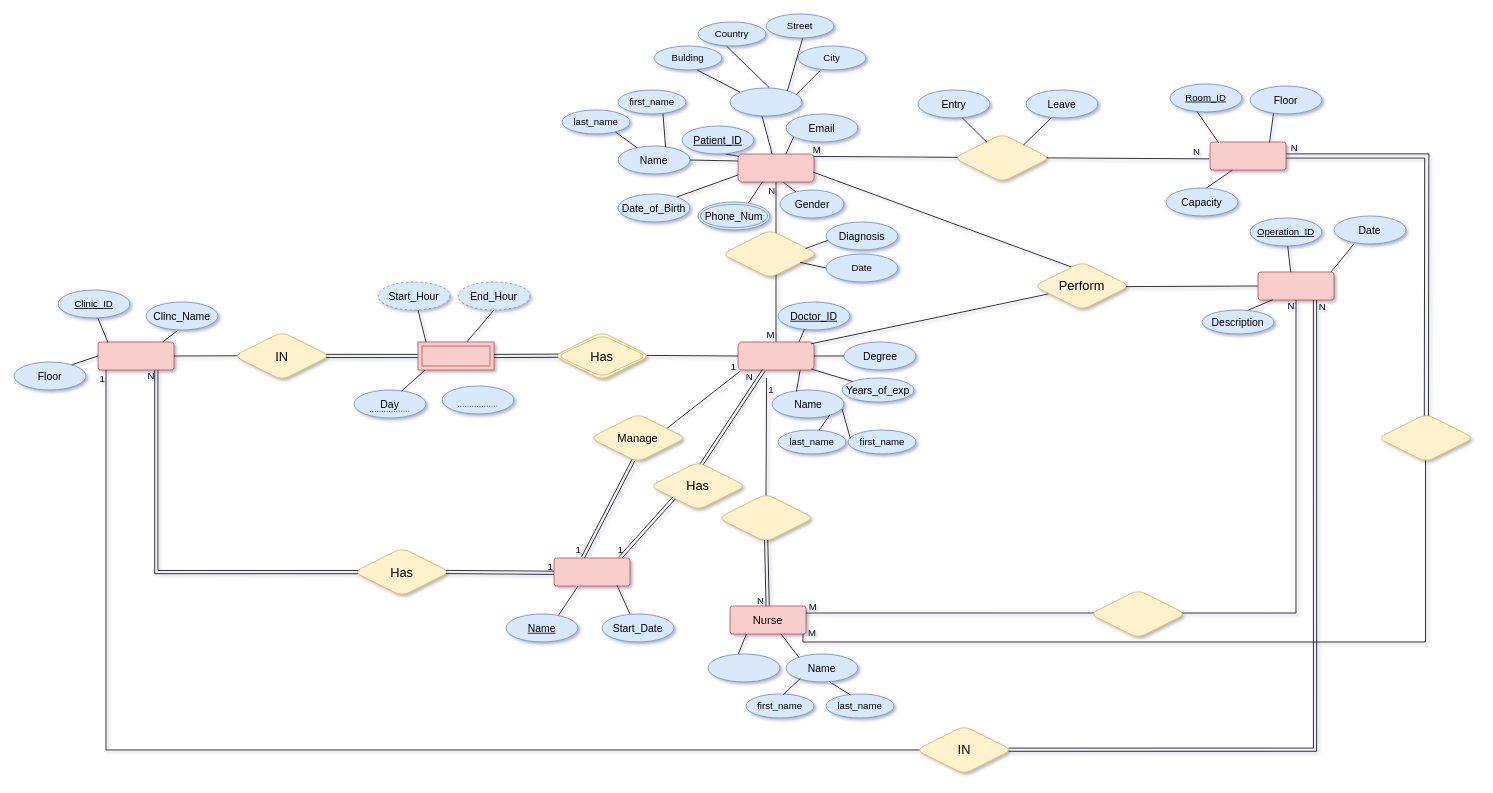
This 1493x793 diagram has some shape labels left out. The centre of each missing label's shape, as x and y in pixels:
"Address" goes at (765,101).
"Appoinment" goes at (455,355).
"Clinic" goes at (135,355).
"Doctor" goes at (775,355).
"Exmain" goes at (769,253).
"Help" goes at (1137,613).
"Nurse_ID" goes at (743,667).
"Operation" goes at (1295,285).
"Patient" goes at (775,167).
"Room" goes at (1247,155).
"Shift_Num" goes at (477,399).
"Specialization" goes at (591,571).
"Stay" goes at (1001,157).
"Supervise" goes at (765,517).
"Take_Care" goes at (1425,437).
